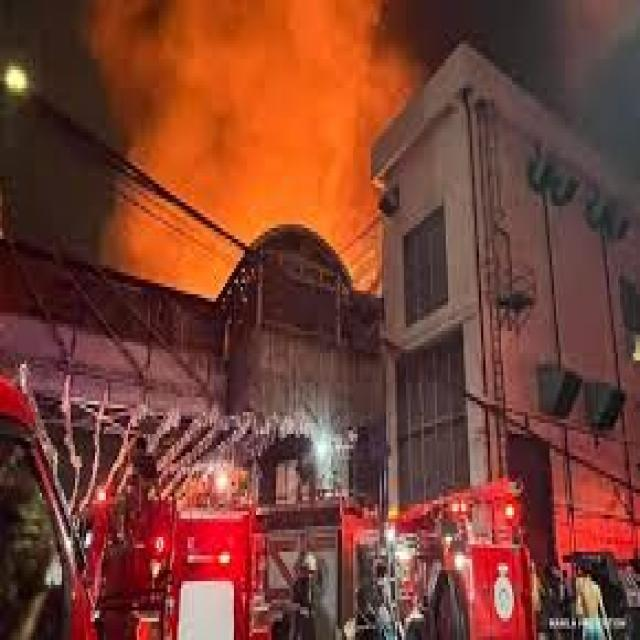Smoke: (88, 0, 410, 309)
